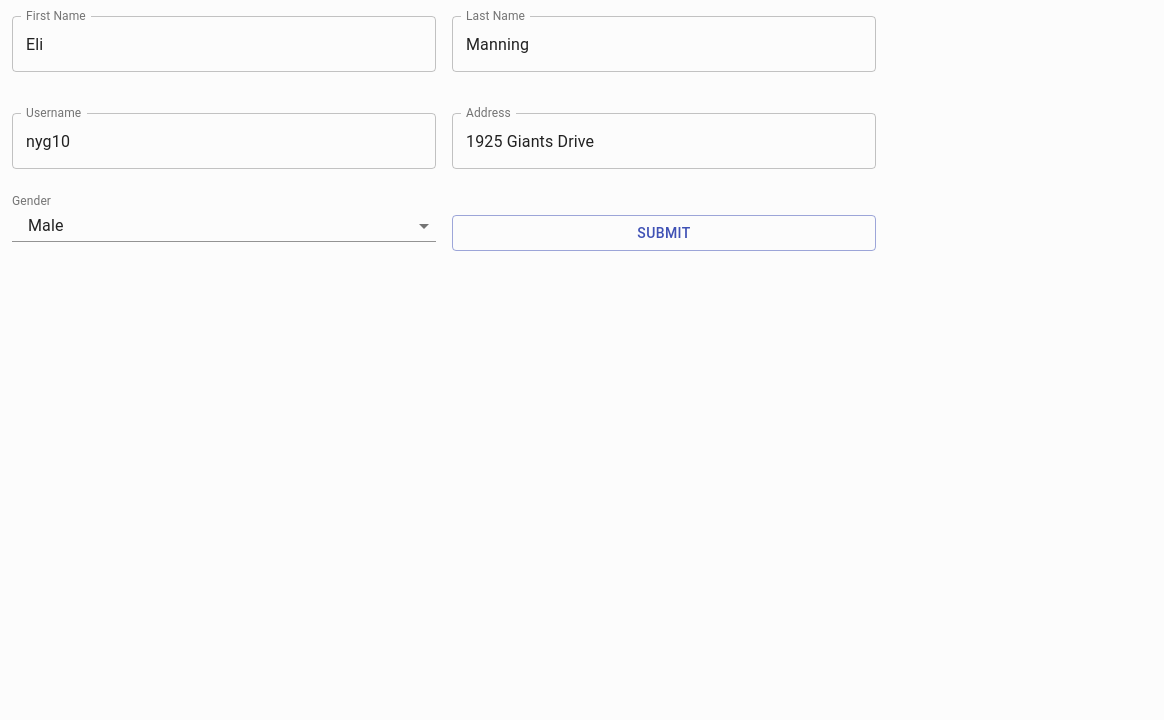
Test: UserForm › renders the error toast when the user fails to create
Click the button "Submit".
click(664, 233)  # box [452,214,876,251]
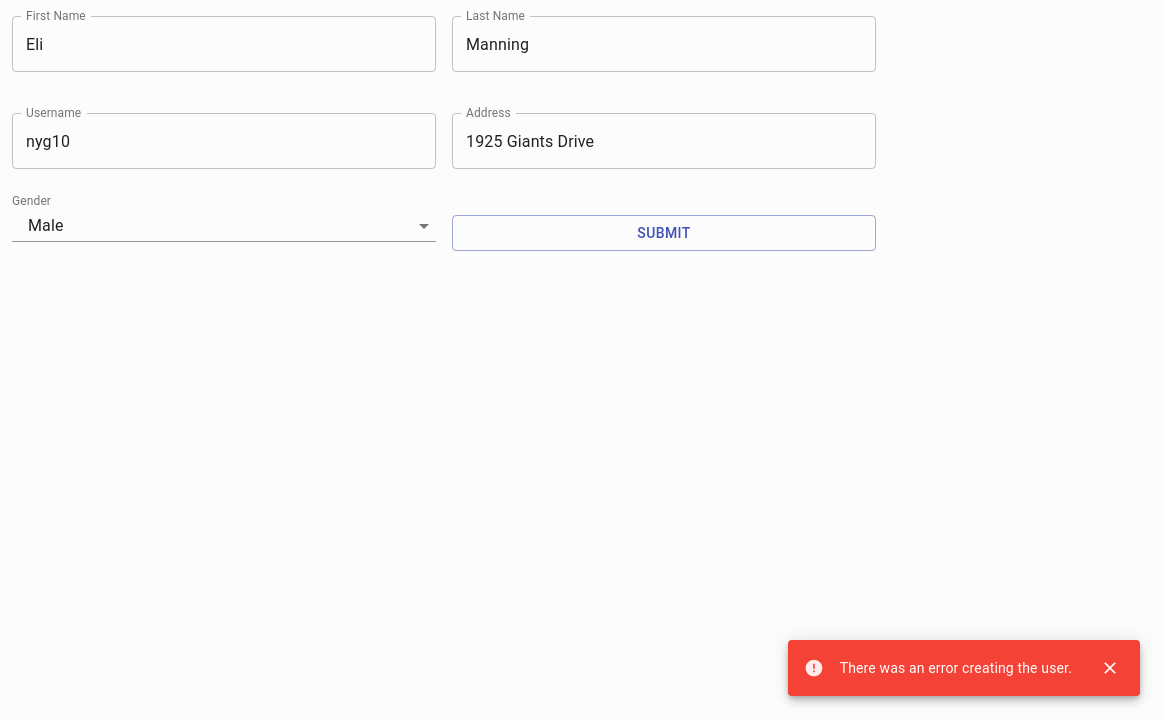
Expected: the text "There was an error creating the user." is shown, [804,658,1072,678]
